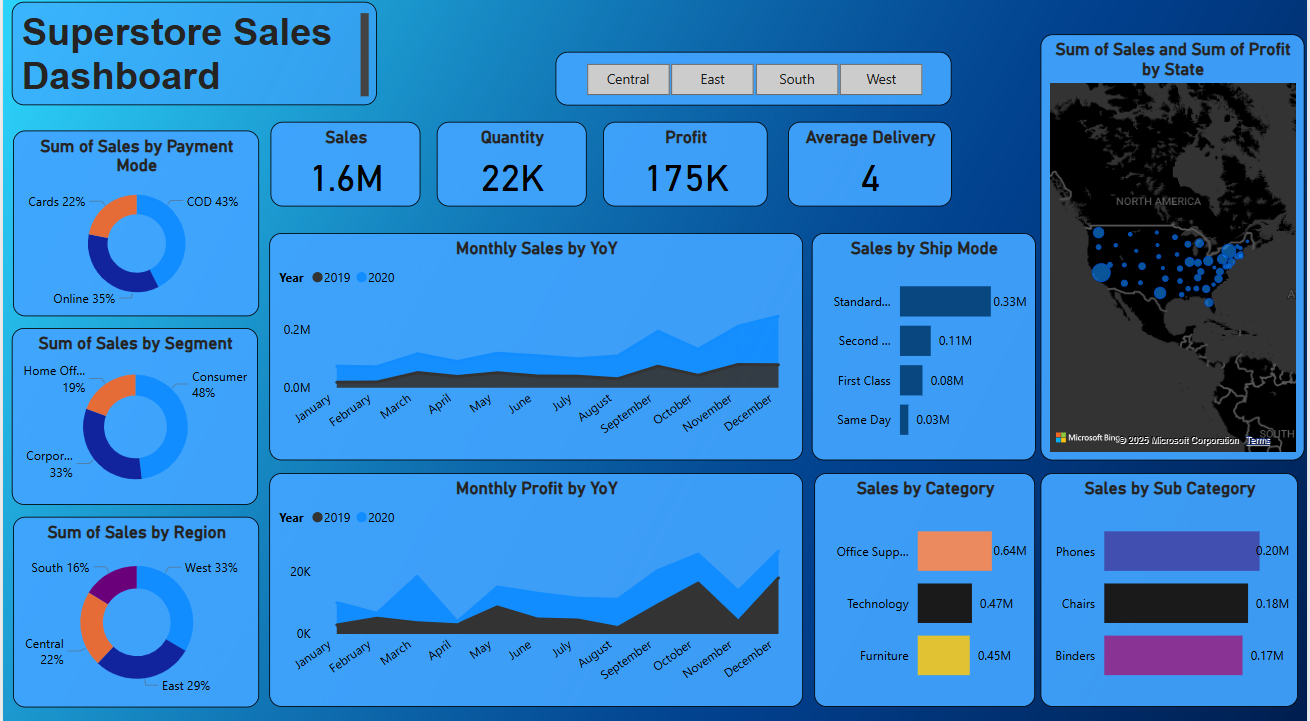

Layout of this report page (visuals, bound fields, positions):
{"tool":"powerbi","page":{"name":"Page 1","canvas":[1280,720],"ordinal":0},"visuals":[{"type":"clusteredBarChart","title":"Sales by Category","fields":{"Category":["SuperStore_Sales_Dataset (1).Category"],"Y":["Sum(SuperStore_Sales_Dataset (1).Sales)"]},"box":[796.3,471.2,217.2,229.4],"z":0},{"type":"clusteredBarChart","title":"Sales by Sub Category","fields":{"Y":["Sum(SuperStore_Sales_Dataset (1).Sales)"],"Category":["SuperStore_Sales_Dataset (1).Sub-Category"]},"box":[1018.4,471.2,252.8,229.4],"z":1000},{"type":"clusteredBarChart","title":"Sales by Ship Mode","fields":{"Y":["Sum(SuperStore_Sales_Dataset (1).Sales)"],"Category":["SuperStore_Sales_Dataset (1).Ship Mode"]},"box":[793.9,235.6,219.6,223.3],"z":2000},{"type":"stackedAreaChart","title":"Monthly Sales by YoY","fields":{"Y":["Sum(SuperStore_Sales_Dataset (1).Sales)"],"Series":["SuperStore_Sales_Dataset (1).Order Date.Variation.Date Hierarchy.Year"],"Category":["SuperStore_Sales_Dataset (1).Order Date.Variation.Date Hierarchy.Month"]},"box":[261.4,235.6,523.9,223.3],"z":3000},{"type":"stackedAreaChart","title":"Monthly Profit by YoY","fields":{"Series":["SuperStore_Sales_Dataset (1).Order Date.Variation.Date Hierarchy.Year"],"Category":["SuperStore_Sales_Dataset (1).Order Date.Variation.Date Hierarchy.Month"],"Y":["Sum(SuperStore_Sales_Dataset (1).Profit)"]},"box":[261.4,471.2,523.9,229.4],"z":4000},{"type":"map","fields":{"Category":["SuperStore_Sales_Dataset (1).State"],"Size":["Sum(SuperStore_Sales_Dataset (1).Sales)"]},"box":[1018.4,40.5,258.9,418.4],"z":5000},{"type":"donutChart","fields":{"Category":["SuperStore_Sales_Dataset (1).Segment"],"Y":["Sum(SuperStore_Sales_Dataset (1).Sales)"]},"box":[8.3,328.6,241.7,173.8],"z":6000},{"type":"donutChart","fields":{"Category":["SuperStore_Sales_Dataset (1).Payment Mode"],"Y":["Sum(SuperStore_Sales_Dataset (1).Sales)"]},"box":[9.5,134.5,241.7,182.1],"z":7000},{"type":"donutChart","fields":{"Category":["SuperStore_Sales_Dataset (1).Region"],"Y":["Sum(SuperStore_Sales_Dataset (1).Sales)"]},"box":[9.5,514.3,241.7,186.9],"z":8000},{"type":"slicer","fields":{"Values":["SuperStore_Sales_Dataset (1).Region"]},"box":[379.1,22.1,542.3,88.3],"z":9000},{"type":"textbox","box":[8.6,8.6,358.3,101.8],"z":10000},{"type":"card","title":"Sales","fields":{"Values":["Sum(SuperStore_Sales_Dataset (1).Sales)"]},"box":[262.6,126.4,147.2,83.4],"z":11000},{"type":"card","title":"Quantity","fields":{"Values":["Sum(SuperStore_Sales_Dataset (1).Quantity)"]},"box":[425.8,126.4,147.2,83.4],"z":12000},{"type":"card","title":"Profit","fields":{"Values":["Sum(SuperStore_Sales_Dataset (1).Profit)"]},"box":[589,126.4,162,83.4],"z":13000},{"type":"card","title":"Average Delivery","fields":{"Values":["Avg(SuperStore_Sales_Dataset (1).AvgDelivery)"]},"box":[770.6,126.4,160.7,83.4],"z":14000}]}

Visuals, with their boxes in screenshot pixels (x1, y1, x2, y2), scaled from the page's 1280x720 canvas onto the 1310x721 screenshot:
"Sales by Category" clusteredBarChart: l=815, t=472, r=1037, b=702
"Sales by Sub Category" clusteredBarChart: l=1042, t=472, r=1301, b=702
"Sales by Ship Mode" clusteredBarChart: l=813, t=236, r=1037, b=460
"Monthly Sales by YoY" stackedAreaChart: l=268, t=236, r=804, b=460
"Monthly Profit by YoY" stackedAreaChart: l=268, t=472, r=804, b=702
map - SuperStore_Sales_Dataset (1).State x Sum(SuperStore_Sales_Dataset (1).Sales): l=1042, t=41, r=1307, b=460
donutChart - SuperStore_Sales_Dataset (1).Segment x Sum(SuperStore_Sales_Dataset (1).Sales): l=8, t=329, r=256, b=503
donutChart - SuperStore_Sales_Dataset (1).Payment Mode x Sum(SuperStore_Sales_Dataset (1).Sales): l=10, t=135, r=257, b=317
donutChart - SuperStore_Sales_Dataset (1).Region x Sum(SuperStore_Sales_Dataset (1).Sales): l=10, t=515, r=257, b=702
slicer - SuperStore_Sales_Dataset (1).Region: l=388, t=22, r=943, b=111
textbox: l=9, t=9, r=375, b=111
"Sales" card: l=269, t=127, r=419, b=210
"Quantity" card: l=436, t=127, r=586, b=210
"Profit" card: l=603, t=127, r=769, b=210
"Average Delivery" card: l=789, t=127, r=953, b=210
